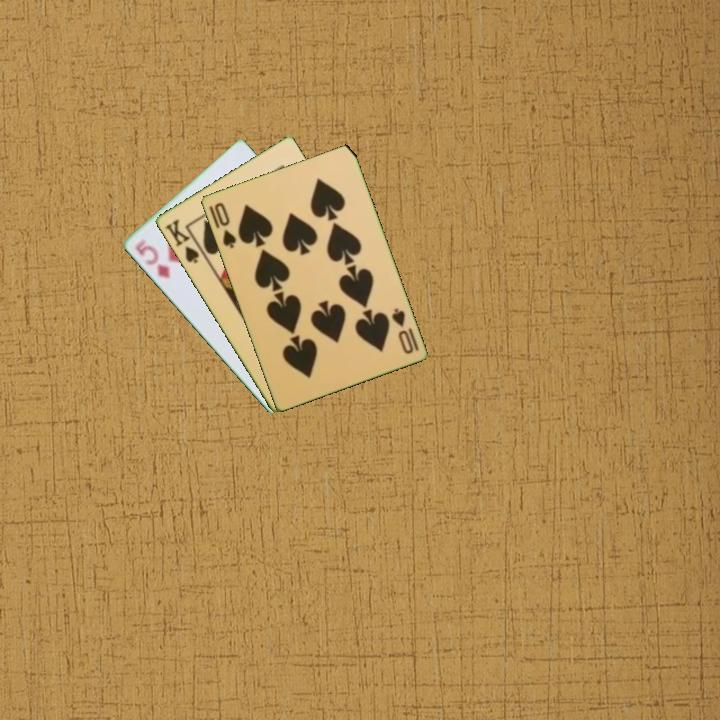10s: (388, 304, 421, 357), (210, 199, 239, 251)
5d: (131, 237, 173, 281)
Ks: (161, 215, 207, 266)
